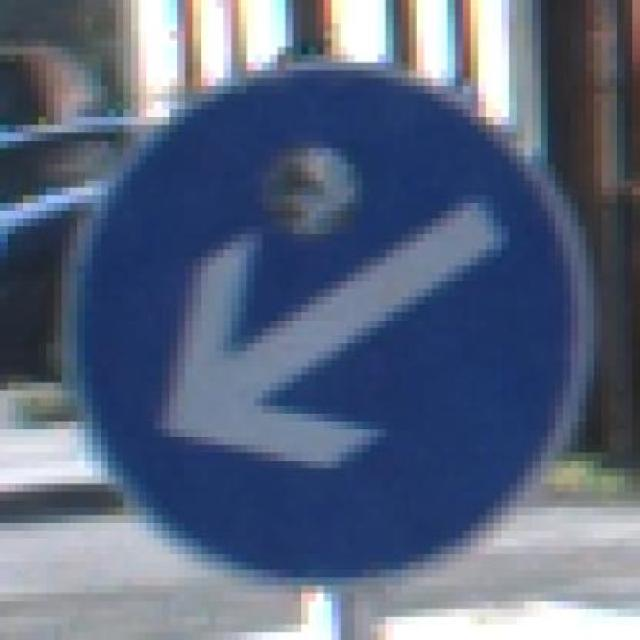Keep-Left: (46, 47, 602, 578)
